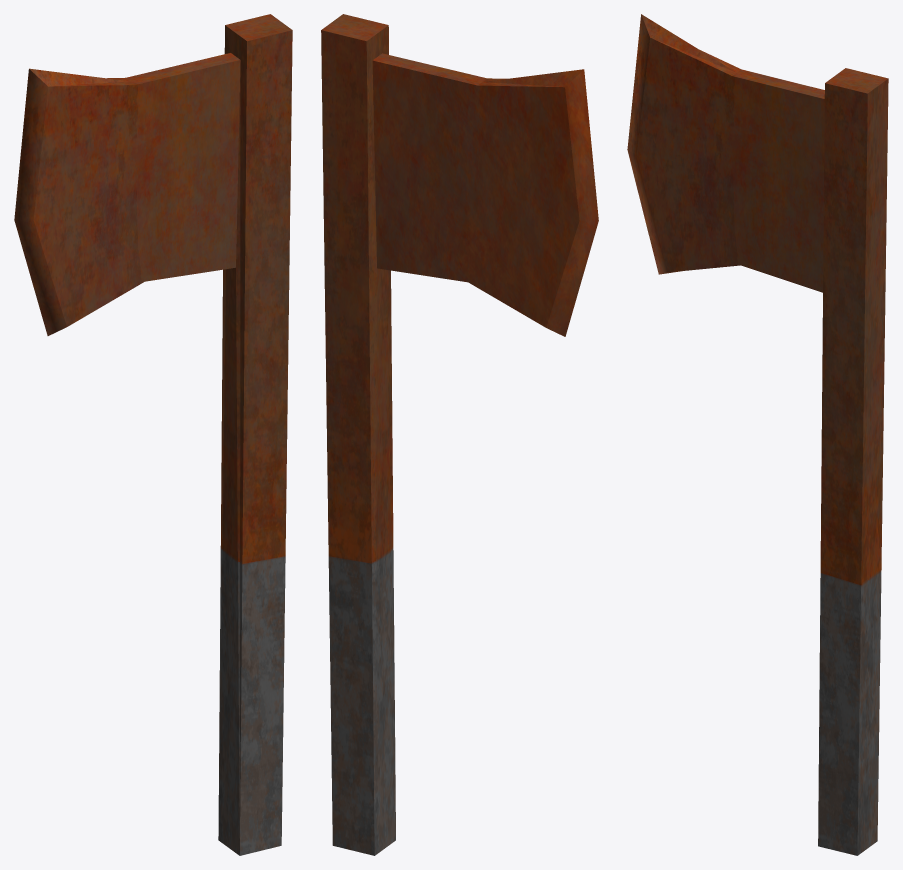
The model's file is copper_axe.fbx.
The picture shows the model from 3 angles, left to right: view 1: azimuth 30°, elevation 25°; view 2: azimuth 150°, elevation 25°; view 3: azimuth 330°, elevation 25°; orthographic projection. The views are drawn at different scales.
Parts seen in each view (by area): view 1: Box003; view 2: Box003; view 3: Box003.
Part boxes in pixels (x1,y1,x2,y2): Box003: (14, 14, 292, 855); Box003: (321, 14, 598, 855); Box003: (627, 14, 888, 855).
Size of the model in its own units: 7.38 by 21.86 by 1.06.
1 material, 1 textured.
